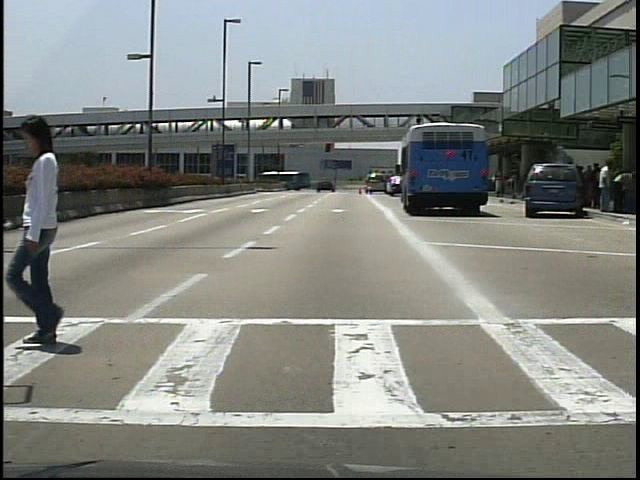person: (8, 115, 102, 356), (598, 159, 618, 212), (588, 161, 605, 215)
